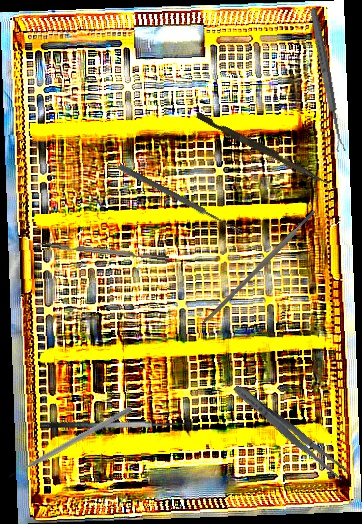Chopper: (31, 239, 169, 268)
Dressing Forceps: (229, 380, 351, 483)
Pusher: (194, 112, 332, 186), (6, 404, 134, 480)
Scalpel Handle: (201, 209, 318, 326)
Spatula Surgical: (39, 408, 194, 433)
Surgical Spoon: (117, 163, 244, 236), (308, 7, 346, 153)
